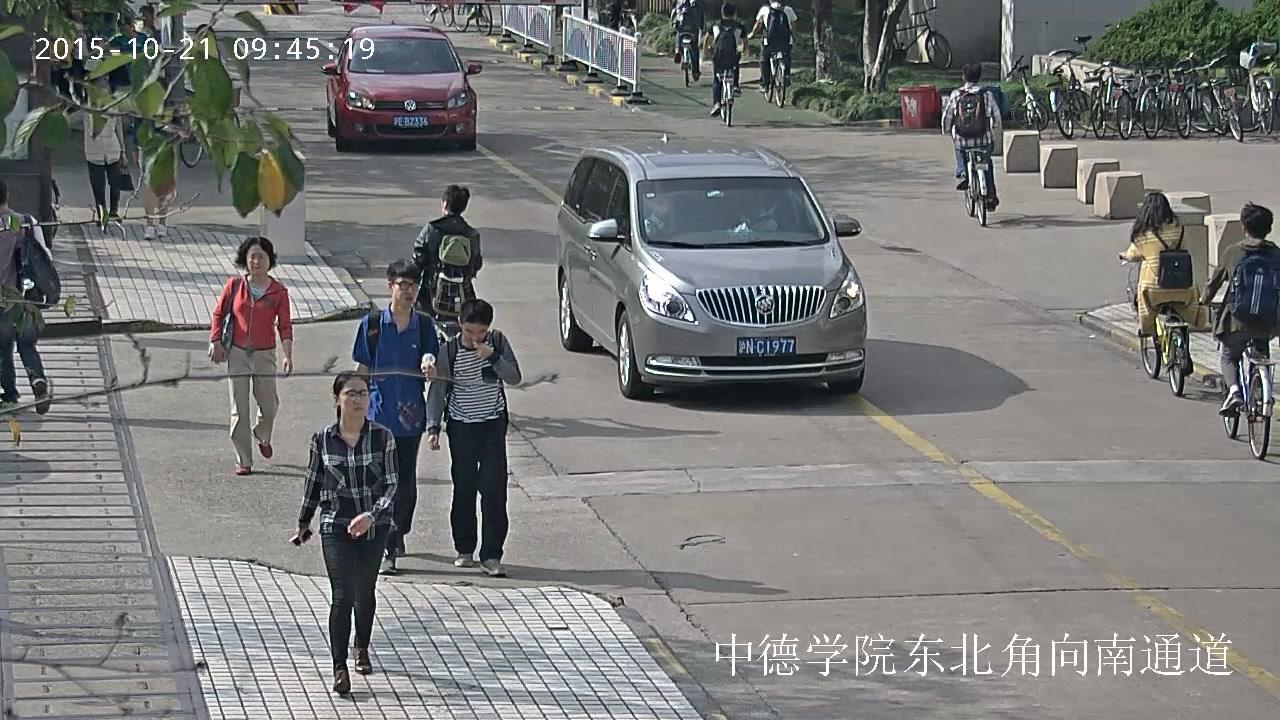face: (341, 380, 369, 418), (392, 276, 417, 308), (246, 243, 269, 273), (462, 323, 487, 345), (759, 188, 774, 203), (118, 24, 132, 38), (95, 88, 108, 100), (140, 12, 150, 25)
